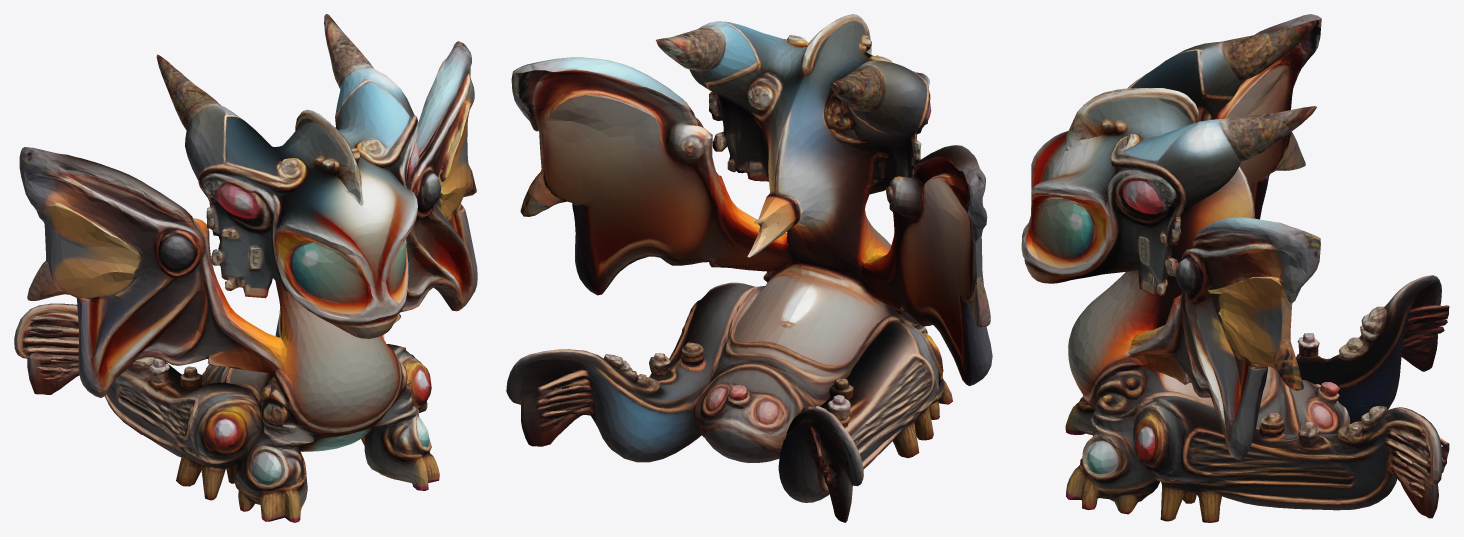
3 renders of one model, left to right at view 1: azimuth 30°, elevation 25°; view 2: azimuth 150°, elevation 25°; view 3: azimuth 270°, elevation 25°, orthographic. The views are drawn at different scales.
Parts seen in each view (by area): view 1: world; view 2: world; view 3: world.
Part boxes in pixels (bbox=[...]): world: bbox=[14, 14, 477, 522]; world: bbox=[506, 14, 992, 522]; world: bbox=[1021, 14, 1449, 522].
Bounding box in the file's own units: 1 × 0.8333 × 0.7945.
1 material, 1 textured.
